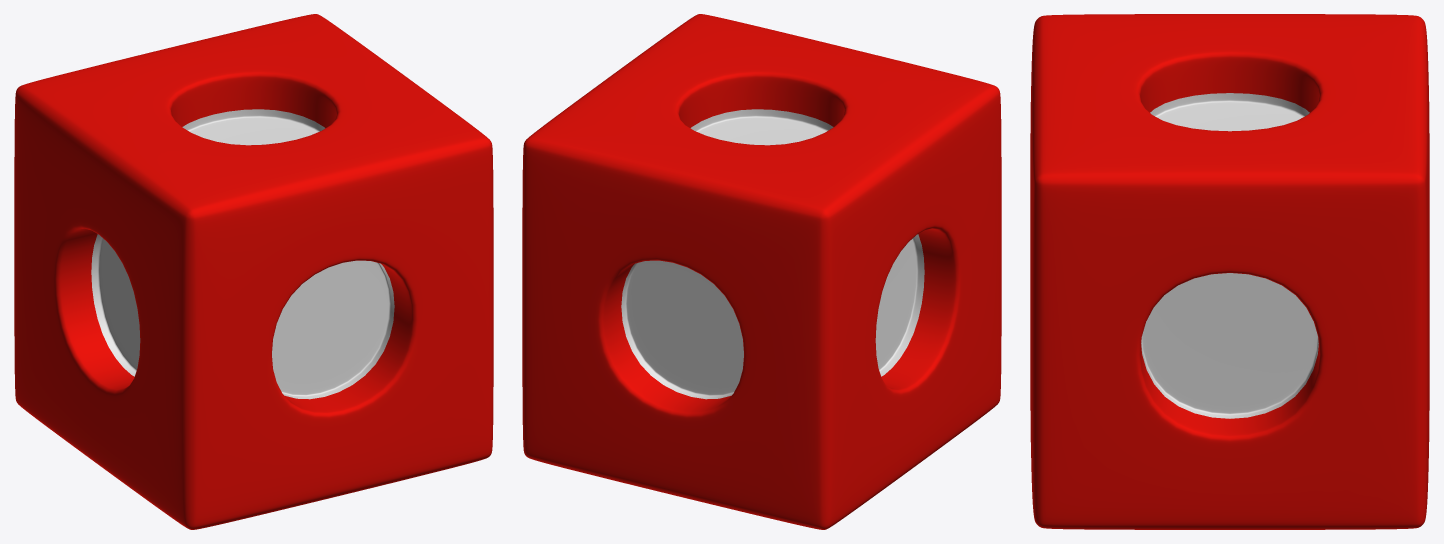
File: CuboConLuz.fbx
The picture shows the model from 3 angles, left to right: view 1: azimuth 30°, elevation 25°; view 2: azimuth 150°, elevation 25°; view 3: azimuth 270°, elevation 25°; orthographic projection. The views are drawn at different scales.
Parts seen in each view (by area): view 1: Cube; view 2: Cube; view 3: Cube.
Boxes of the visible parts, left/top/right/bottom form: Cube: left=14, top=14, right=493, bottom=529; Cube: left=522, top=14, right=1001, bottom=529; Cube: left=1030, top=14, right=1429, bottom=529.
Bounding box in the file's own units: 200 × 200 × 200.
